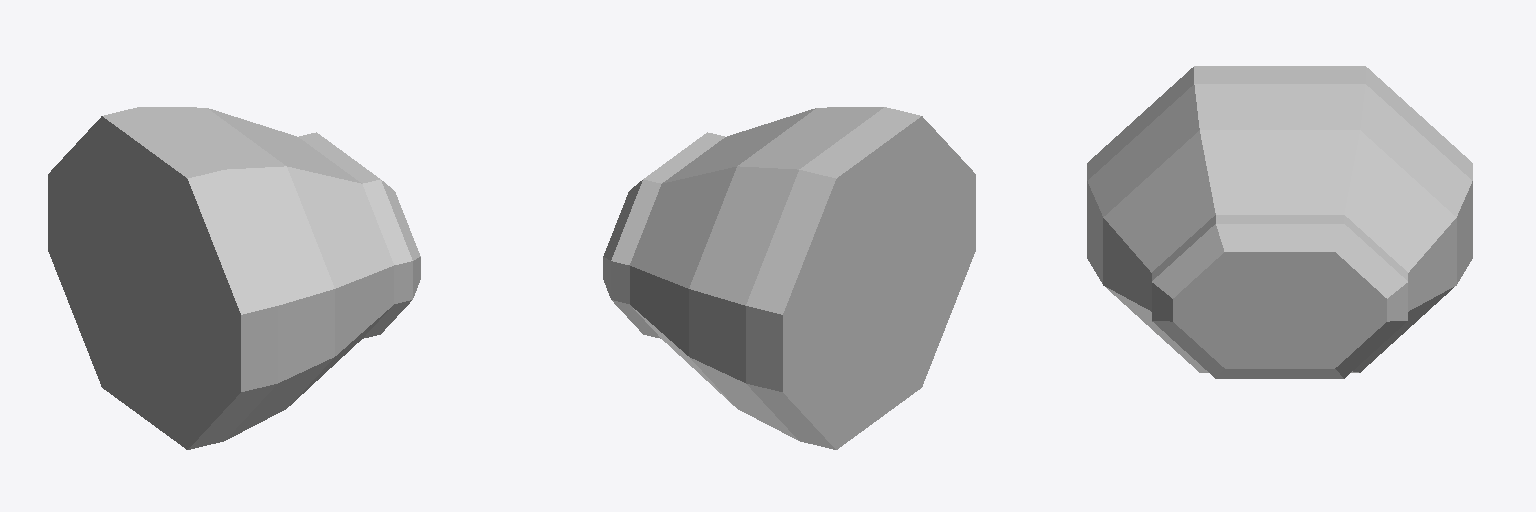
The model's file is Spacestation_Structure_Rod_Housing_Short_Centered.obj.
3 renders of one model, left to right at view 1: azimuth 30°, elevation 25°; view 2: azimuth 150°, elevation 25°; view 3: azimuth 270°, elevation 25°, orthographic.
Visible parts, largest first — view 1: object2, object1; view 2: object2, object1; view 3: object2, object1.
Part boxes in pixels (left/top/right/bottom): object2: left=48, top=107, right=393, bottom=449; object1: left=299, top=132, right=420, bottom=338; object2: left=630, top=107, right=975, bottom=449; object1: left=603, top=132, right=724, bottom=338; object2: left=1087, top=66, right=1472, bottom=372; object1: left=1152, top=215, right=1407, bottom=378.
Size of the model in its own units: 0.6 by 0.7 by 0.9.